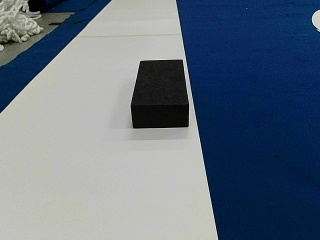block: (131, 58, 189, 127)
